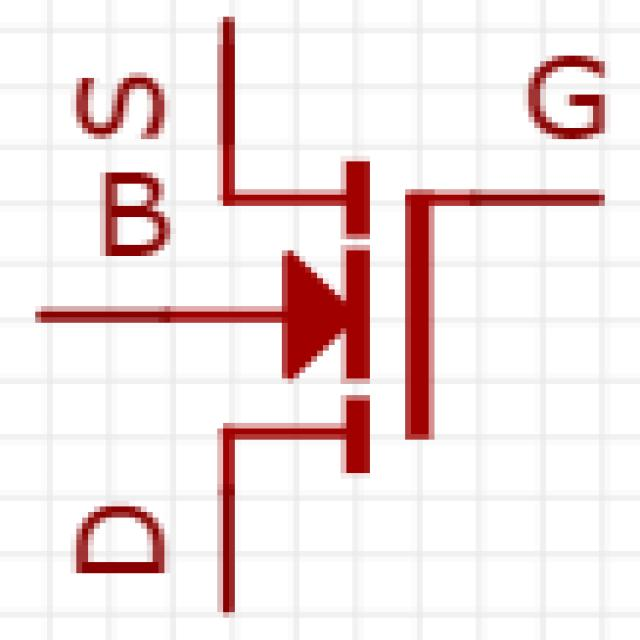nmos: (29, 14, 638, 621)
